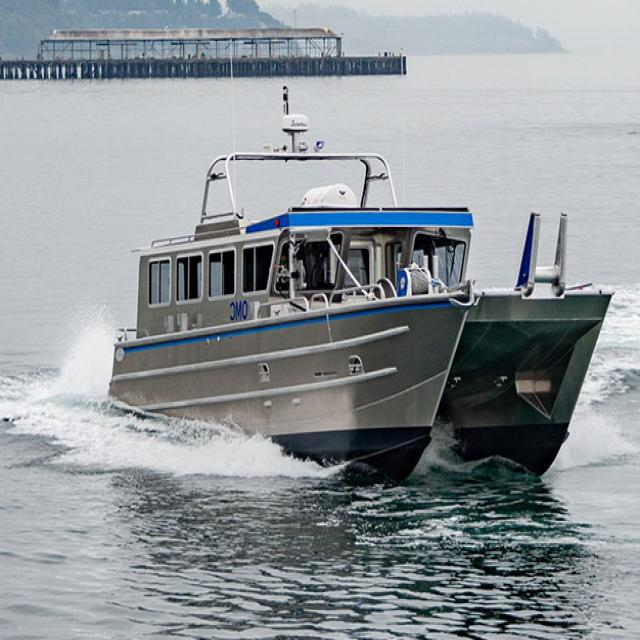houseboat: (118, 123, 609, 484)
